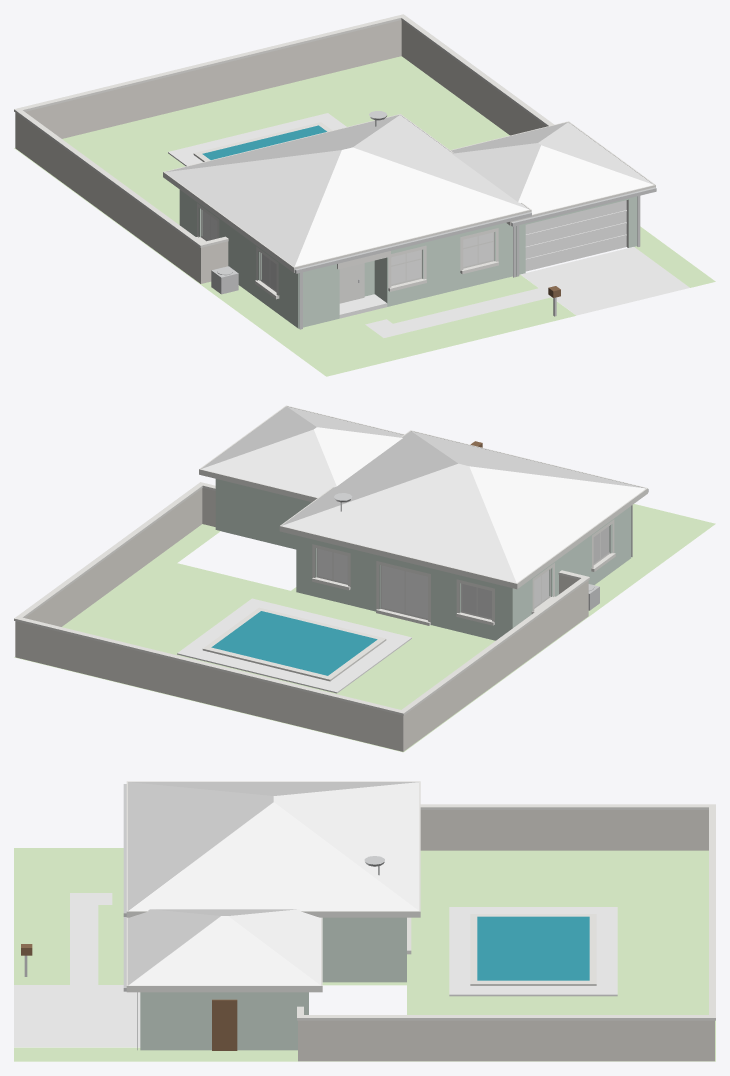
Rendered from house_spanish72.glb.
3 renders of one model, top to bottom at view 1: azimuth 30°, elevation 25°; view 2: azimuth 150°, elevation 25°; view 3: azimuth 270°, elevation 25°, orthographic. The views are drawn at different scales.
Parts seen in each view (by area): view 1: house_spanish72_Roof, house_spanish72_Lawn, house_spanish72_Walls2, house_spanish72_Walls, house_spanish72_Trim, house_spanish72_Site, house_spanish72_Doors, house_spanish72_Details, house_spanish72_Glass, house_spanish72_Frames, house_spanish72_Water; view 2: house_spanish72_Roof, house_spanish72_Walls2, house_spanish72_Lawn, house_spanish72_Walls, house_spanish72_Trim, house_spanish72_Water, house_spanish72_Site, house_spanish72_Glass, house_spanish72_WindowsLit, house_spanish72_Frames, house_spanish72_Details; view 3: house_spanish72_Roof, house_spanish72_Lawn, house_spanish72_Walls2, house_spanish72_Site, house_spanish72_Walls, house_spanish72_Trim, house_spanish72_Water, house_spanish72_Accent, house_spanish72_Details.
Part boxes in pixels (bbox=[...]): house_spanish72_Roof: bbox=[165, 115, 653, 266]; house_spanish72_Lawn: bbox=[14, 56, 715, 376]; house_spanish72_Walls2: bbox=[15, 20, 546, 283]; house_spanish72_Walls: bbox=[179, 190, 637, 328]; house_spanish72_Trim: bbox=[14, 14, 655, 299]; house_spanish72_Site: bbox=[168, 113, 689, 337]; house_spanish72_Doors: bbox=[525, 200, 626, 271]; house_spanish72_Details: bbox=[211, 111, 656, 329]; house_spanish72_Glass: bbox=[202, 210, 493, 284]; house_spanish72_Frames: bbox=[201, 209, 494, 303]; house_spanish72_Water: bbox=[202, 125, 326, 159]; house_spanish72_Roof: bbox=[201, 406, 645, 583]; house_spanish72_Walls2: bbox=[15, 488, 588, 751]; house_spanish72_Lawn: bbox=[14, 504, 715, 752]; house_spanish72_Walls: bbox=[215, 479, 631, 640]; house_spanish72_Trim: bbox=[14, 405, 647, 715]; house_spanish72_Water: bbox=[211, 611, 377, 675]; house_spanish72_Site: bbox=[177, 598, 411, 693]; house_spanish72_Glass: bbox=[318, 549, 549, 618]; house_spanish72_WindowsLit: bbox=[462, 526, 608, 618]; house_spanish72_Frames: bbox=[316, 525, 610, 620]; house_spanish72_Details: bbox=[334, 489, 648, 610]; house_spanish72_Roof: bbox=[128, 782, 419, 985]; house_spanish72_Lawn: bbox=[14, 848, 715, 1061]; house_spanish72_Walls2: bbox=[298, 810, 714, 1061]; house_spanish72_Site: bbox=[14, 893, 617, 1047]; house_spanish72_Walls: bbox=[140, 917, 406, 1050]; house_spanish72_Trim: bbox=[126, 781, 715, 1020]; house_spanish72_Water: bbox=[477, 916, 589, 980]; house_spanish72_Accent: bbox=[21, 944, 237, 1050]; house_spanish72_Details: bbox=[24, 784, 384, 1050].
Bounding box in the file's own units: 72 × 19.49 × 100.
